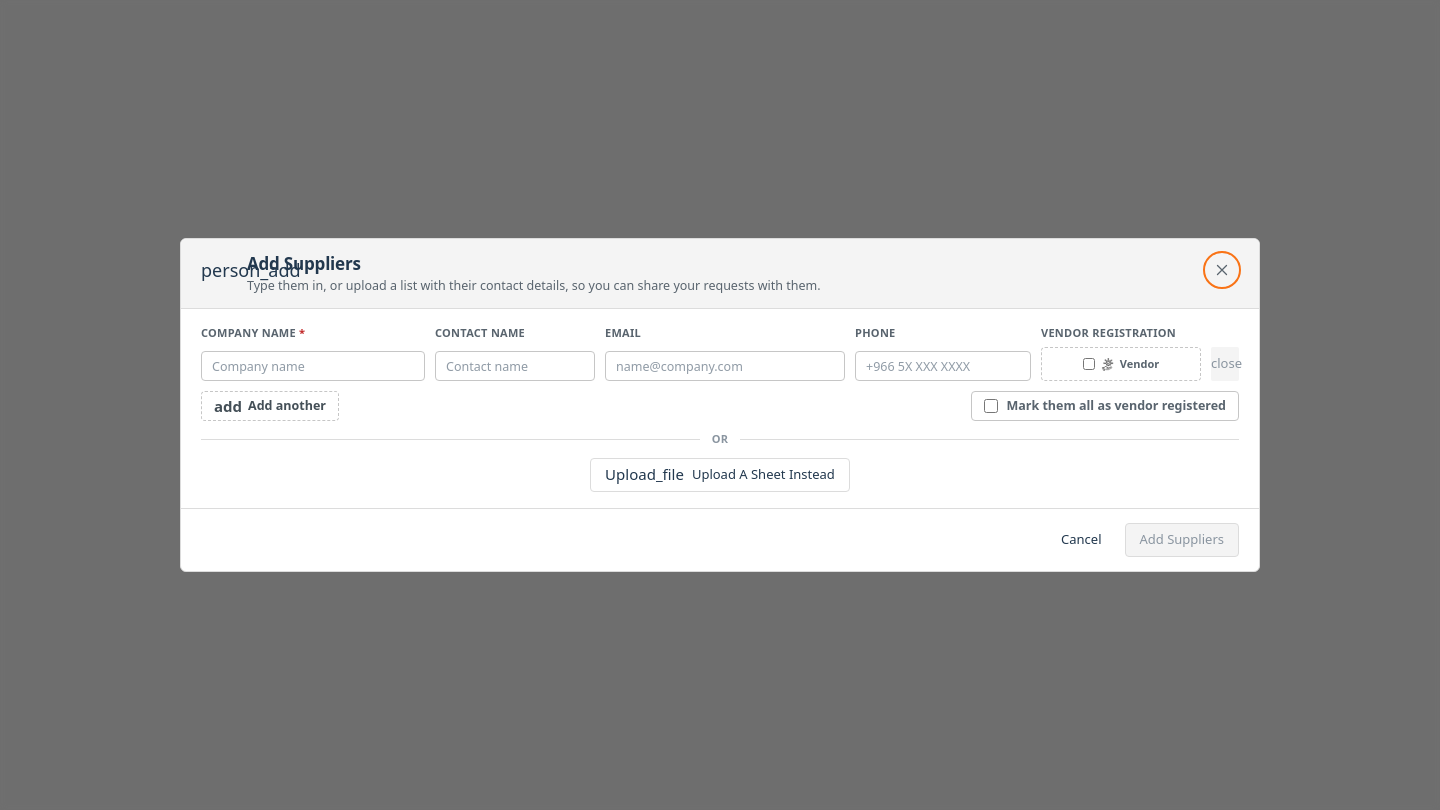
Test: a refused add names the refusal › Given a body with no reason at all, Then the old sentence is the fallback
Type "Al-Faisal Contracting Est." into the field with placeholder "Company name" at (313,366), box [201,351,425,381]
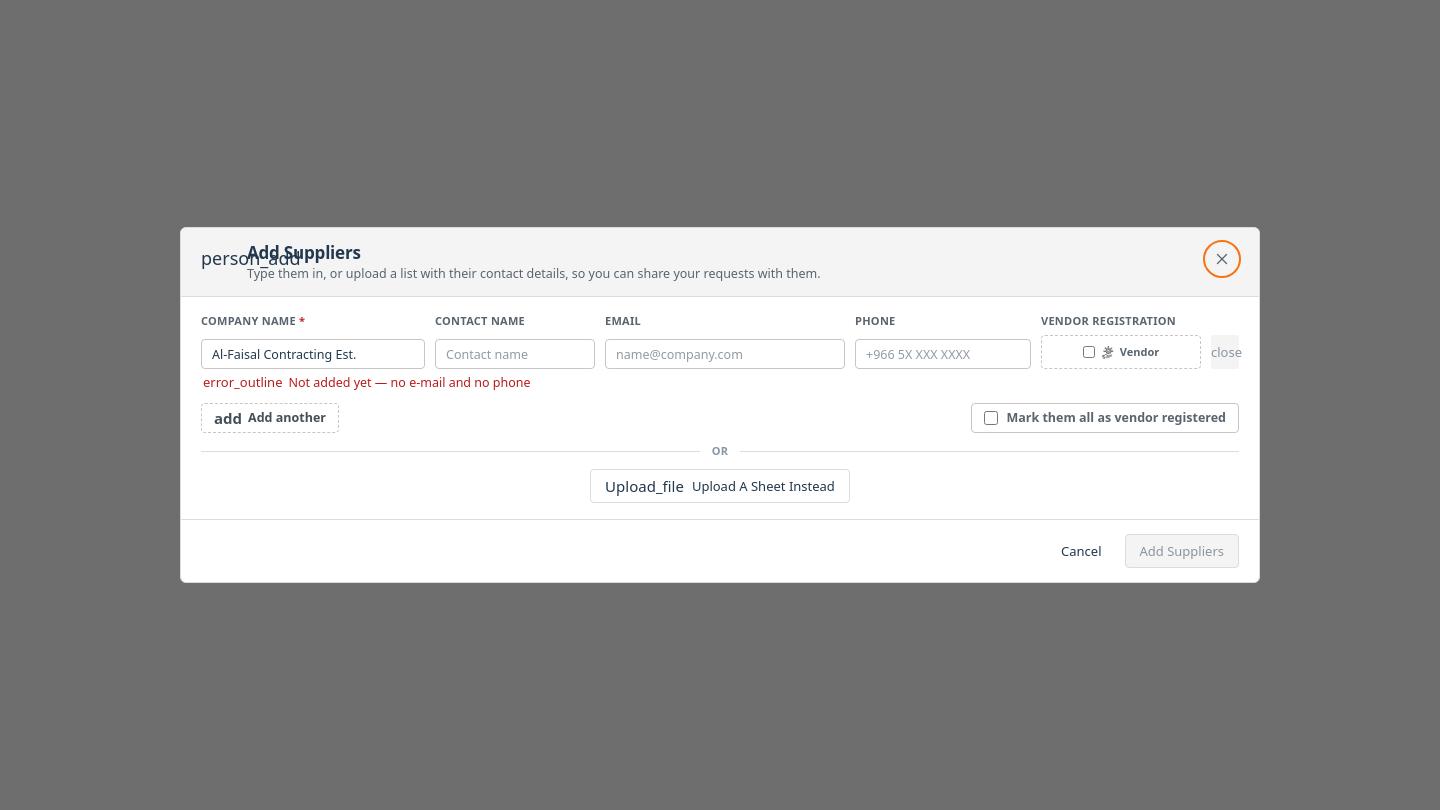
Type "0535869745" into the field with placeholder "+966 5X XXX XXXX" at (943,354), box [855,340,1031,370]
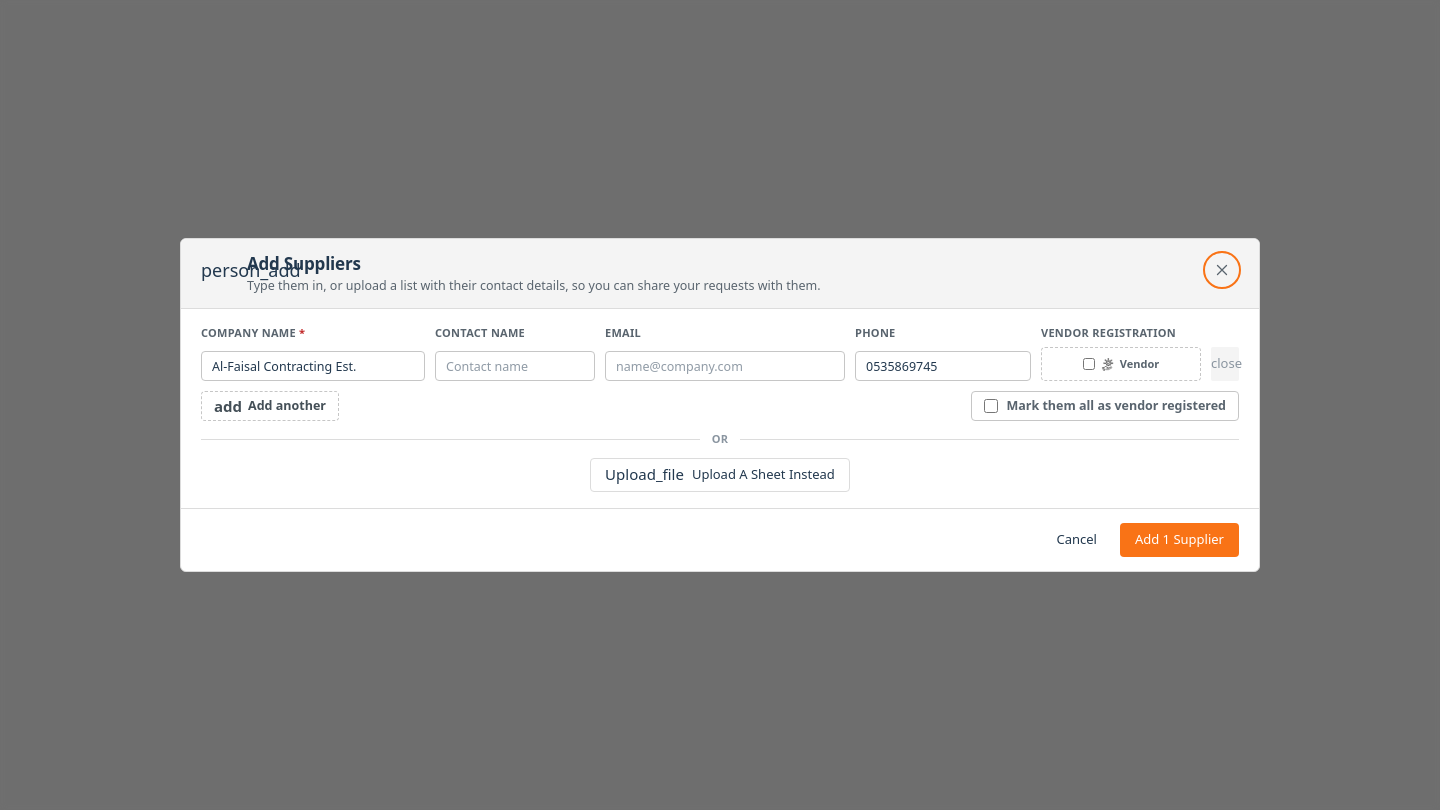
Click the button "Add 1 supplier" at (1179,540), box [1120,523,1239,557]
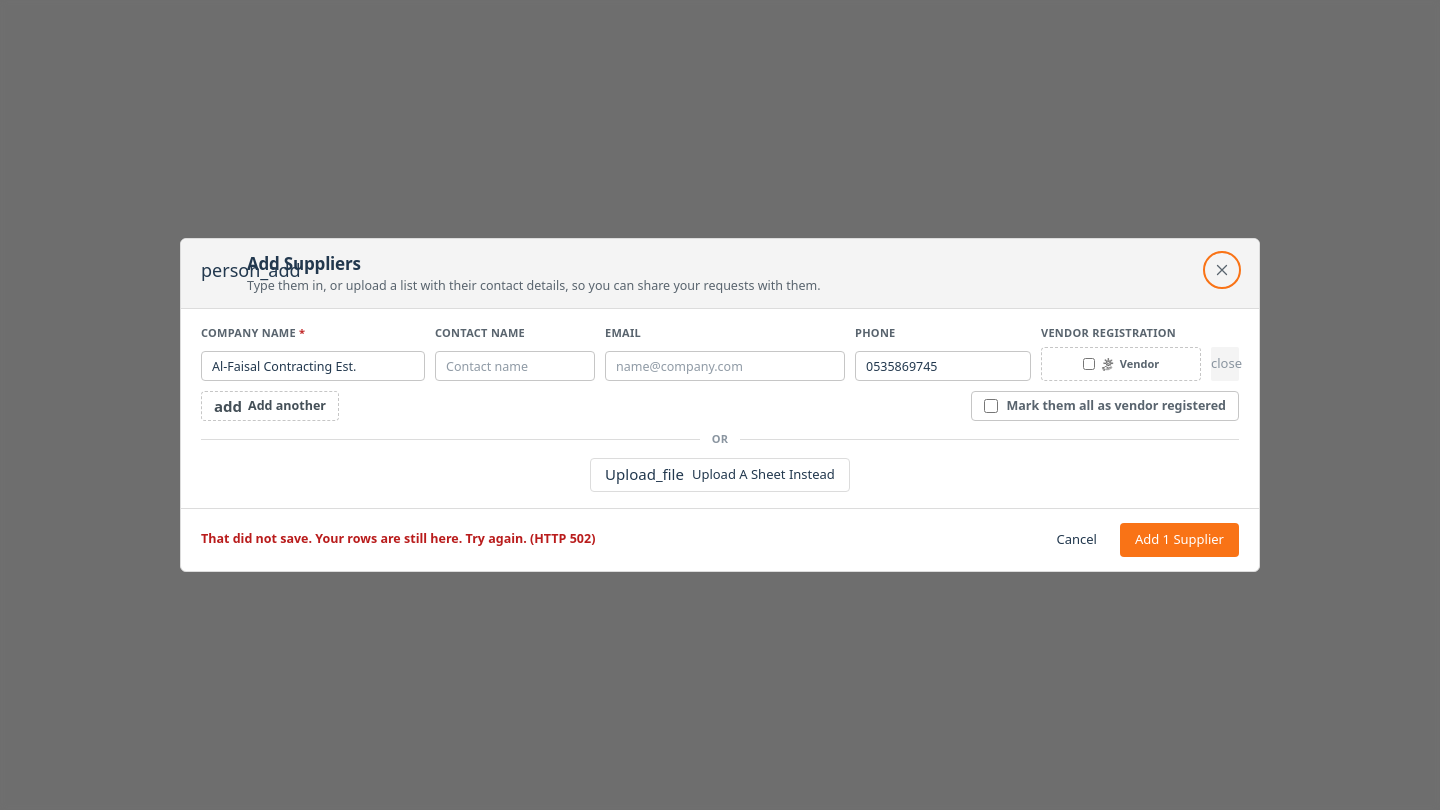
Expected: the text "That did not save. Your rows are still here. Try again." is shown, [201,530,595,547]
